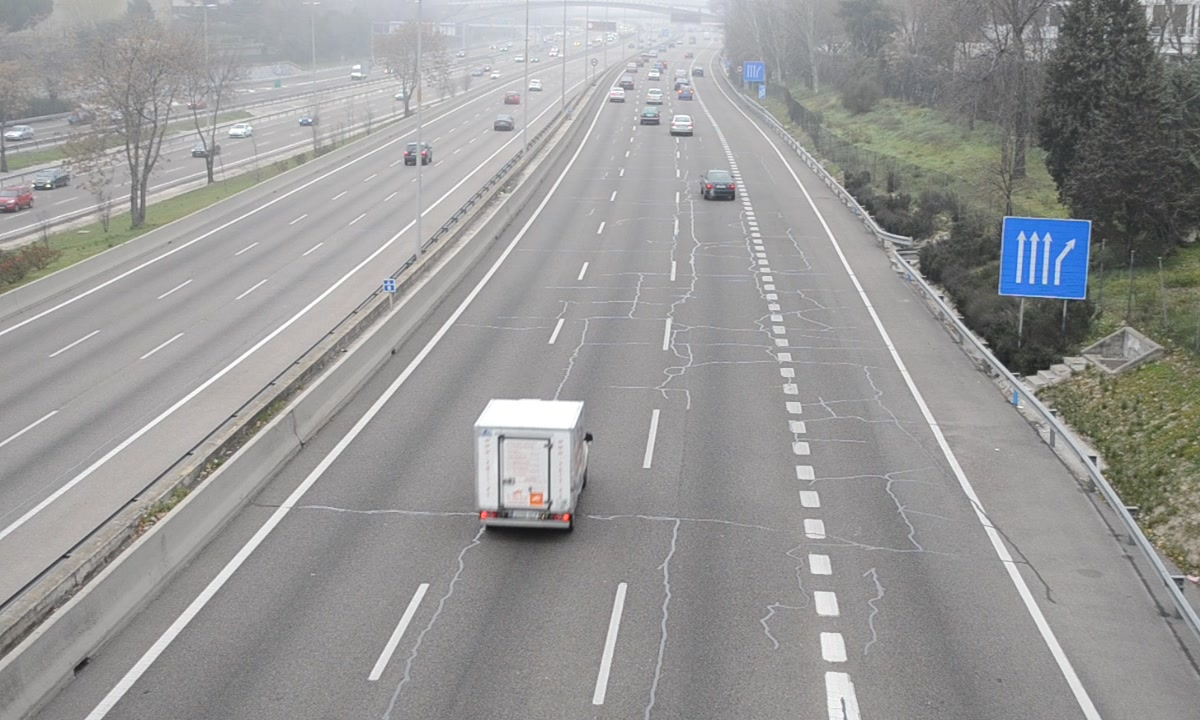car: (703, 167, 738, 198)
small-truck: (472, 399, 592, 531)
